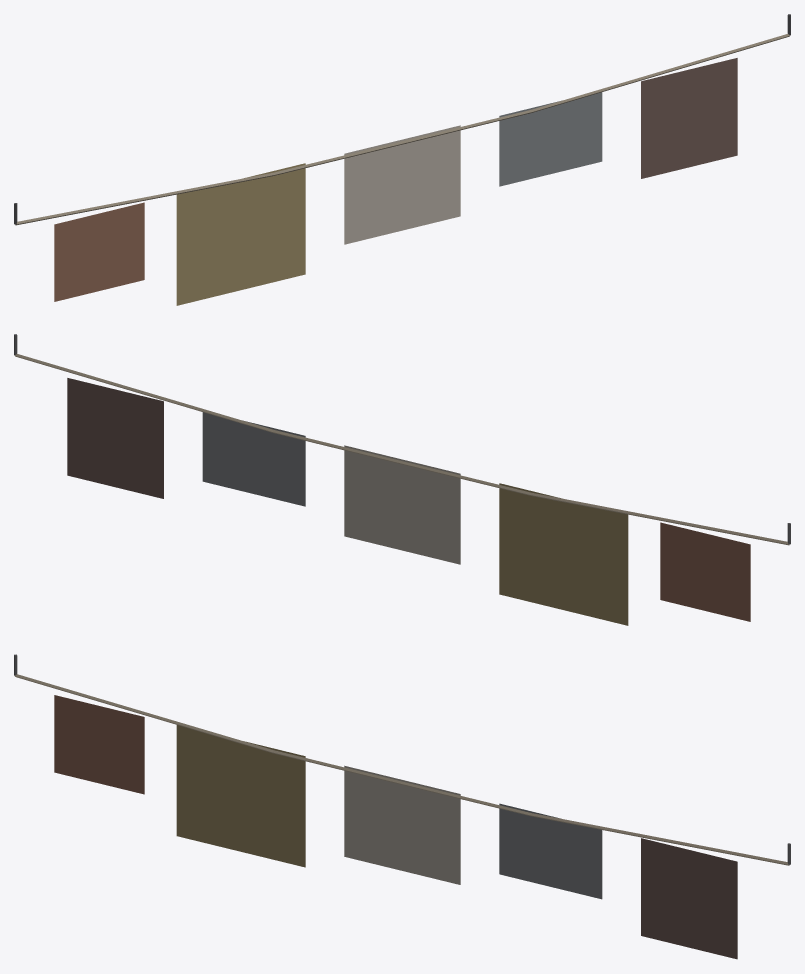
The model's file is drying_line_b.glb.
3 renders of one model, top to bottom at view 1: azimuth 30°, elevation 25°; view 2: azimuth 150°, elevation 25°; view 3: azimuth 330°, elevation 25°, orthographic.
Visible parts, largest first — view 1: drying_line_b; view 2: drying_line_b; view 3: drying_line_b.
Part boxes in pixels (x1,y1,x2,y2): drying_line_b: (14,14,790,305); drying_line_b: (14,334,790,625); drying_line_b: (14,654,790,959).
Bounding box in the file's own units: 2.41 × 0.42 × 0.01.
